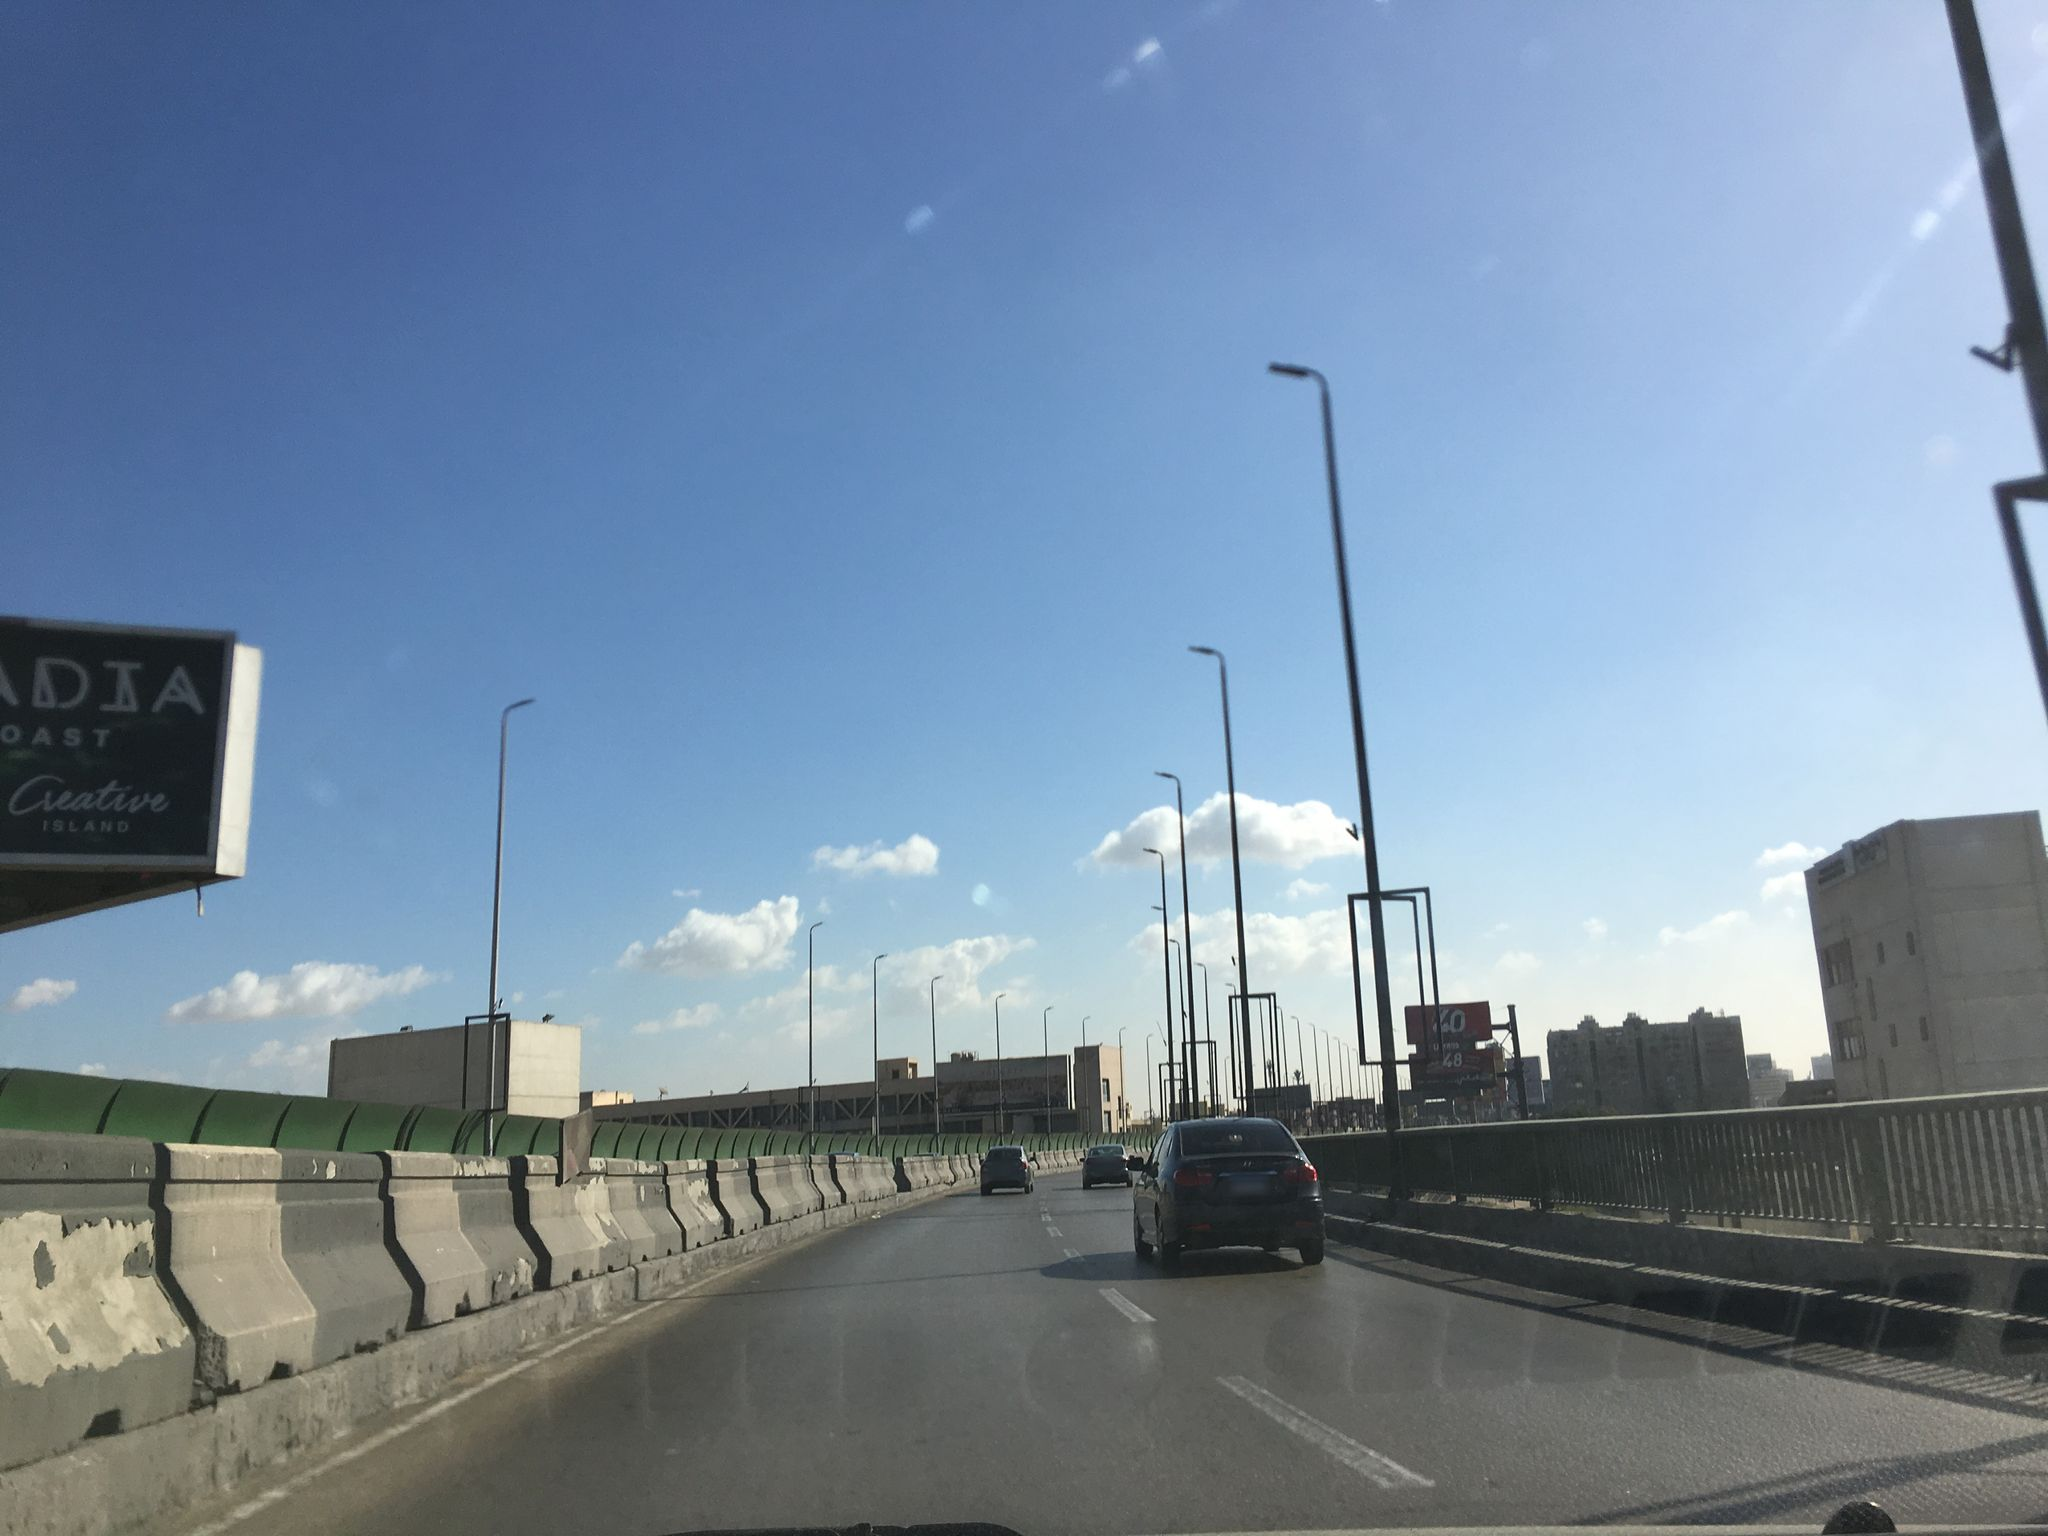car: (1127, 1117, 1326, 1265), (979, 1146, 1034, 1194), (1079, 1142, 1134, 1187)
